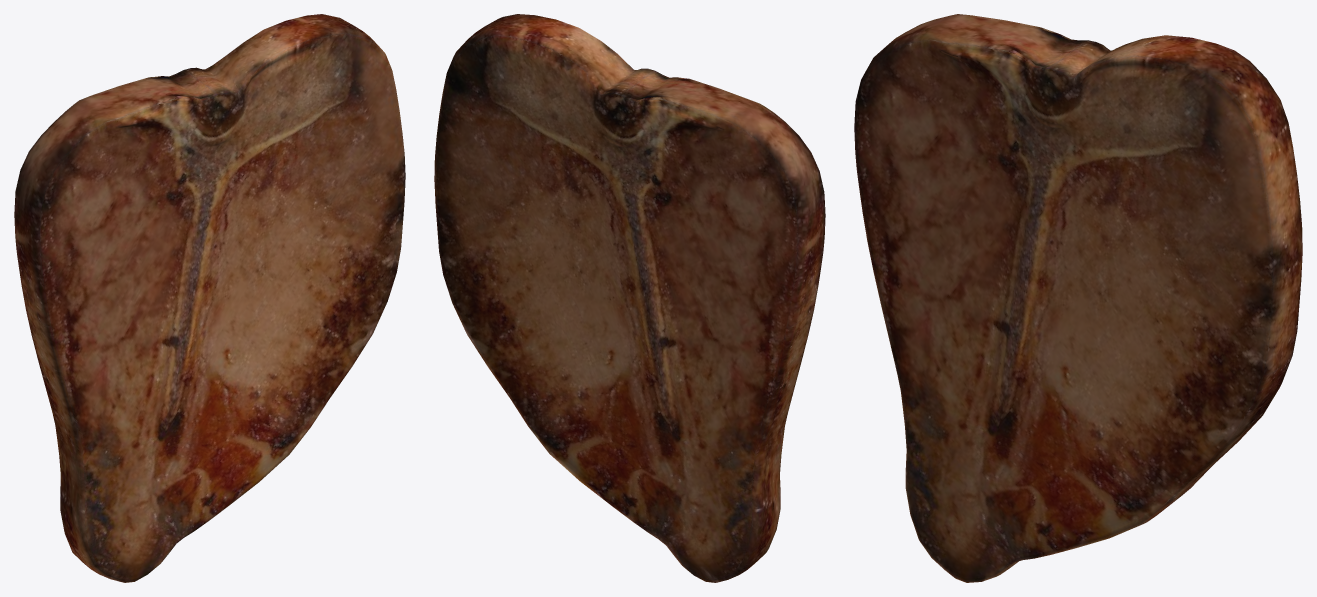
The picture shows the model from 3 angles, left to right: view 1: azimuth 30°, elevation 25°; view 2: azimuth 150°, elevation 25°; view 3: azimuth 330°, elevation 25°; orthographic projection. The views are drawn at different scales.
Parts seen in each view (by area): view 1: Node1; view 2: Node1; view 3: Node1.
Boxes of the visible parts, bbox=[...] form: Node1: bbox=[14, 14, 405, 582]; Node1: bbox=[434, 14, 825, 582]; Node1: bbox=[854, 14, 1302, 582].
Bounding box in the file's own units: 9.26 × 12.01 × 1.54.
Materials: 1 (1 with a texture image).
